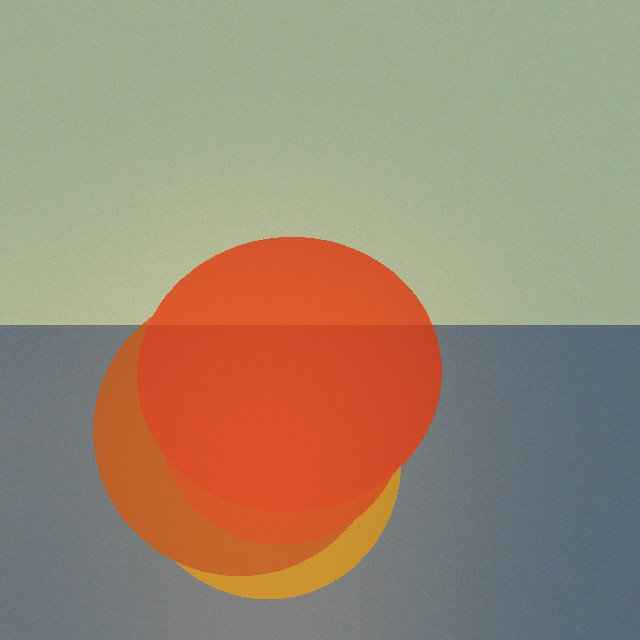fire: (151, 294, 375, 588)
